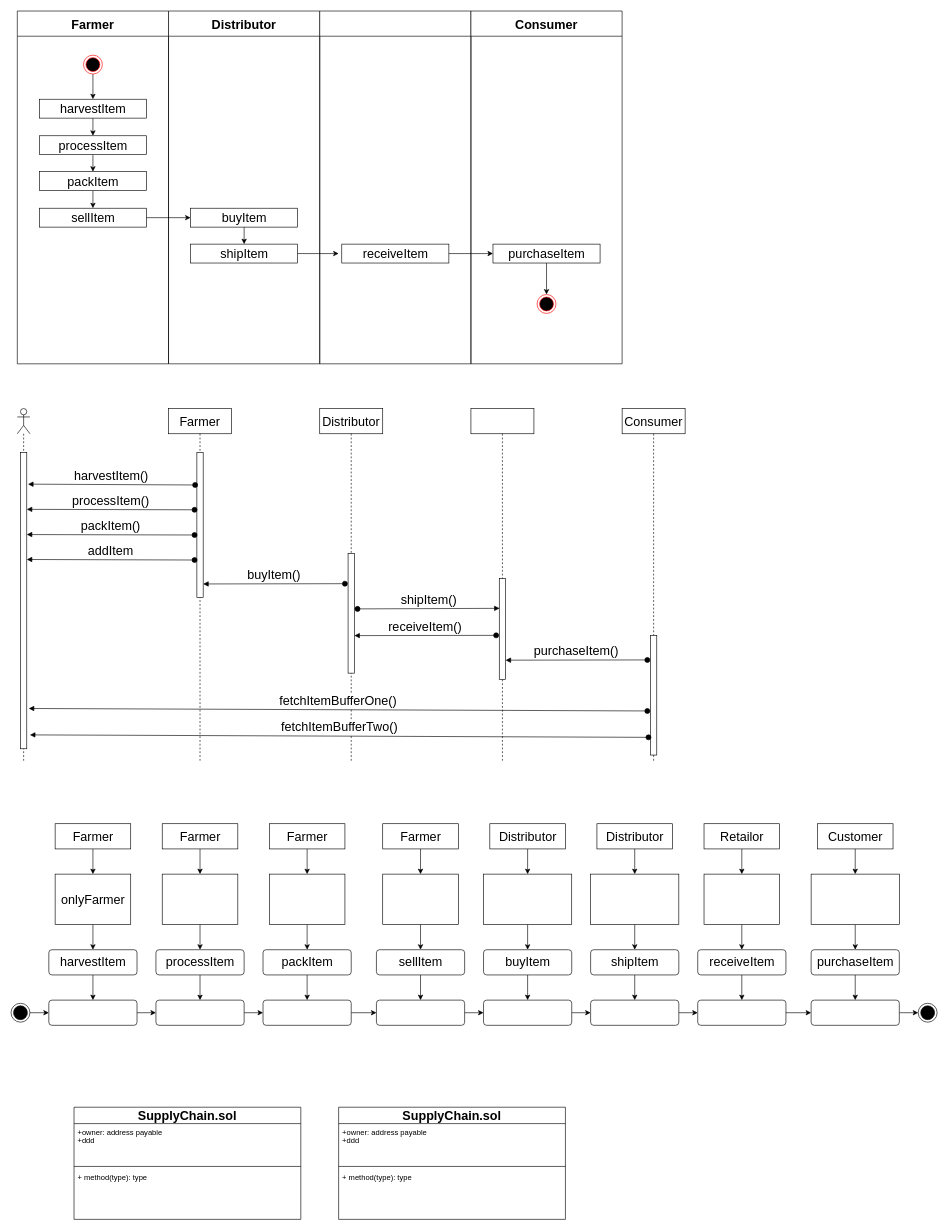
The diagram is 948 pixels wide and 1232 high, and some of its shapes have lost their labels. Each missing label, with the box of its shape:
ForSale: (376, 999, 465, 1025)
Harvested: (48, 999, 137, 1025)
onlyCustomer received: (810, 873, 899, 925)
onlyDistributor forSale paidEnough: (483, 873, 572, 925)
onlyDistributor verifyCaller sold: (590, 873, 679, 925)
onlyFarmer verifyCaller harvested: (162, 873, 238, 925)
onlyFarmer verifyCaller packed: (382, 873, 458, 925)
onlyFarmer verifyCaller processed: (269, 873, 345, 925)
onlyRetailor shipped: (703, 873, 780, 925)
Packed: (262, 999, 351, 1025)
Processed: (155, 999, 244, 1025)
Purchased: (810, 999, 899, 1025)
Received: (697, 999, 786, 1025)
Retailer: (470, 408, 534, 761)
Retialer: (319, 10, 471, 364)
Shipped: (590, 999, 679, 1025)
Sold: (483, 999, 572, 1025)
